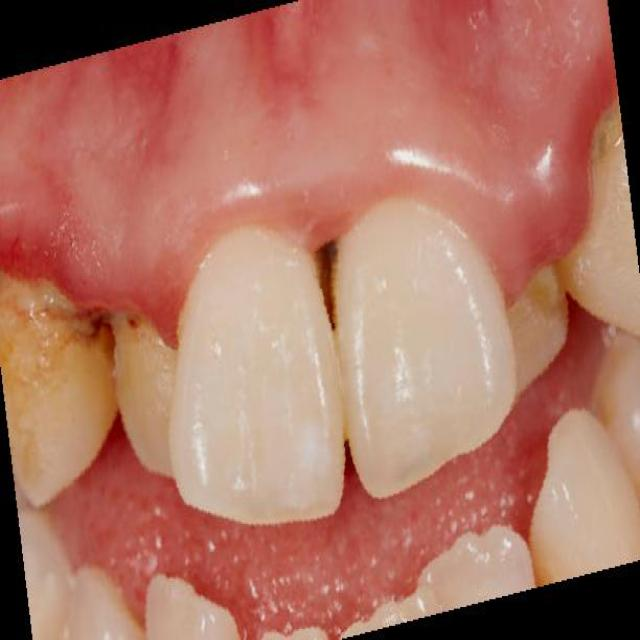caries: (297, 210, 363, 341), (514, 220, 583, 322), (98, 284, 163, 386), (571, 80, 640, 176)
